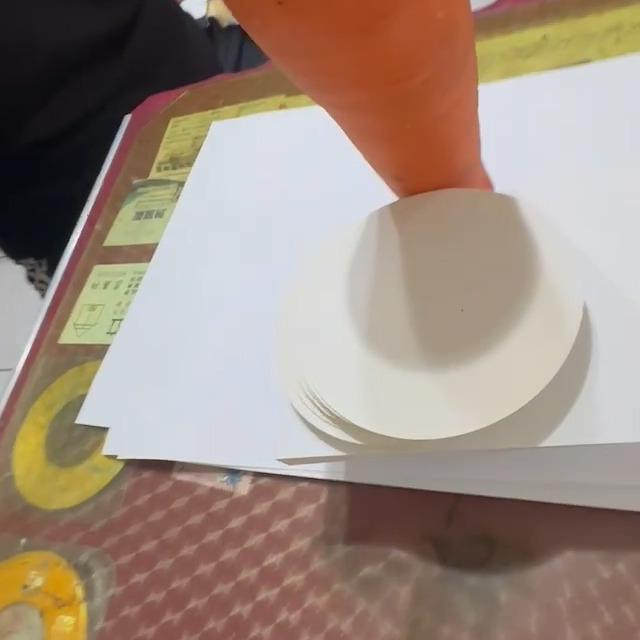carrot: (202, 1, 496, 197)
